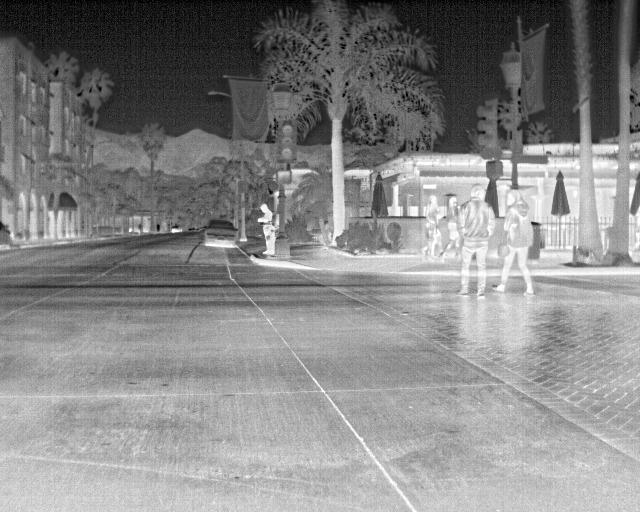bicycle: (197, 218, 241, 250)
empty: (452, 184, 498, 299), (492, 191, 537, 298), (438, 194, 464, 260), (254, 203, 281, 259), (419, 194, 441, 258)
